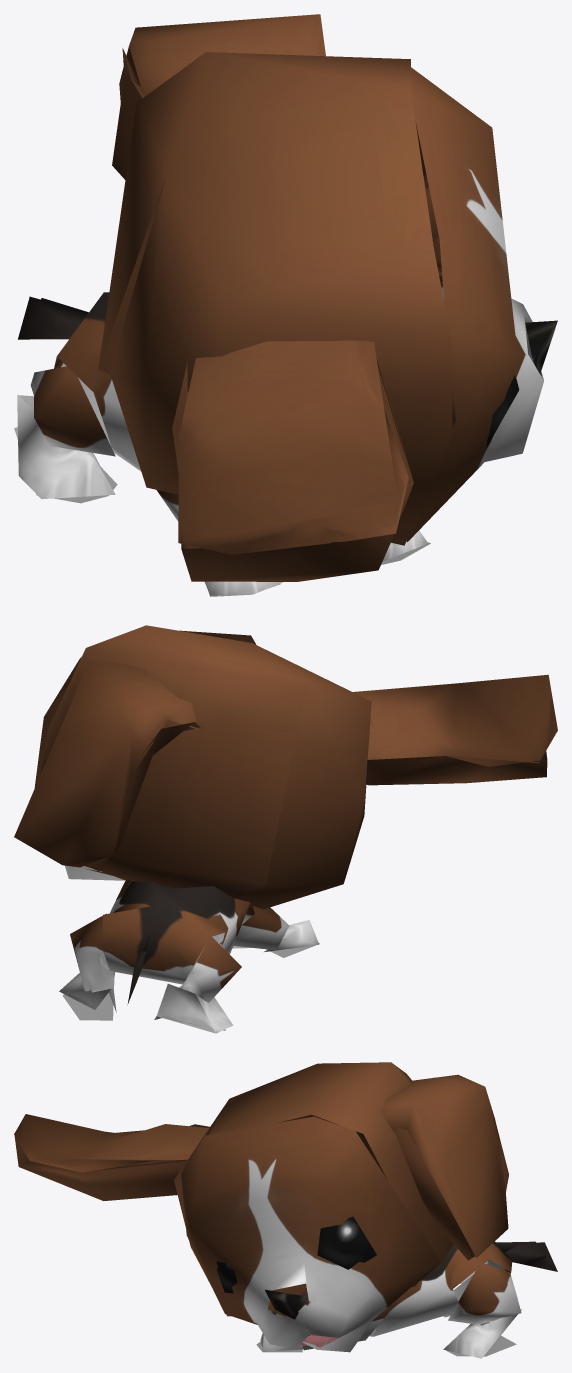
Rendered from dog_1.glb.
3 renders of one model, top to bottom at view 1: azimuth 30°, elevation 25°; view 2: azimuth 150°, elevation 25°; view 3: azimuth 270°, elevation 25°, orthographic. The views are drawn at different scales.
Visible parts, largest first — view 1: obj file; view 2: obj file; view 3: obj file.
Part boxes in pixels (left/top/right/bottom): obj file: left=14, top=14, right=557, bottom=596; obj file: left=14, top=625, right=557, bottom=1033; obj file: left=14, top=1062, right=557, bottom=1358.
Size of the model in its own units: 11 by 9.05 by 16.51.
1 material, 1 textured.
